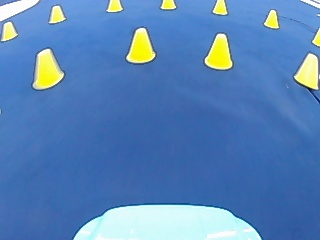cone: (31, 46, 64, 89), (125, 26, 156, 63), (203, 31, 233, 69), (293, 52, 318, 88), (48, 4, 65, 24), (263, 8, 279, 28), (1, 21, 17, 40), (212, 0, 227, 15), (106, 0, 122, 12), (160, 0, 176, 10), (311, 27, 319, 46)
